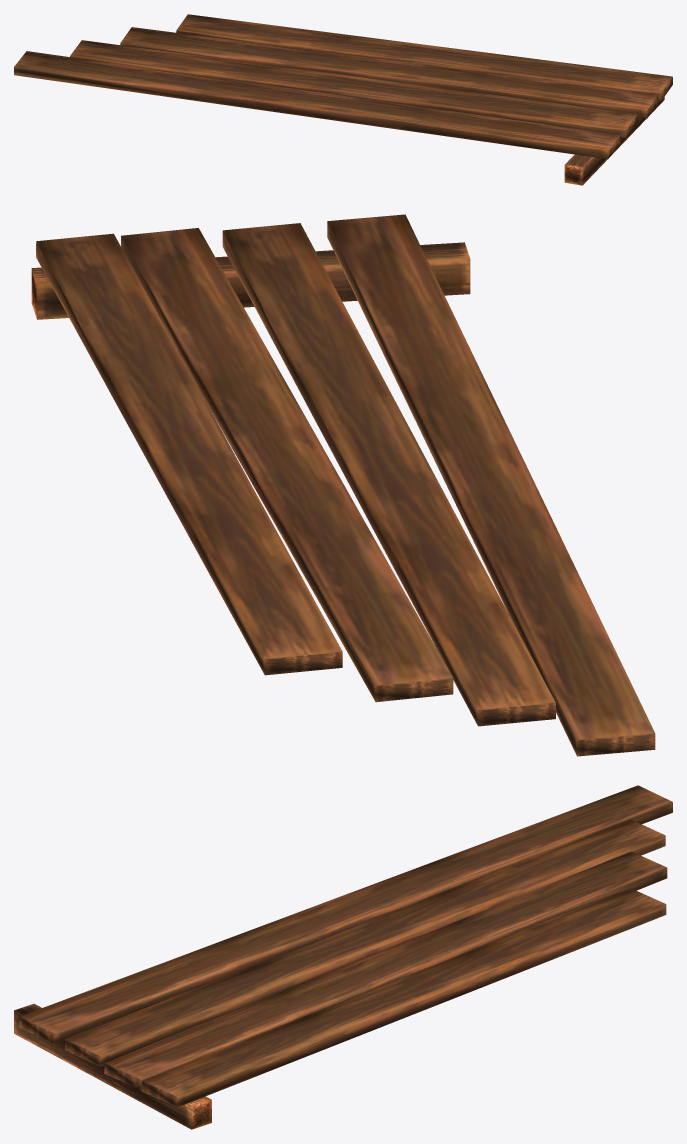
File: SWORDLIGHT20_JAILPLATFORM05.fbx
3 views of the same model, one above another, from view 1: azimuth 30°, elevation 25°; view 2: azimuth 150°, elevation 25°; view 3: azimuth 270°, elevation 25° (orthographic). The views are drawn at different scales.
Visible parts, largest first — view 1: SWORDLIGHT20_JAILPLATFORM05; view 2: SWORDLIGHT20_JAILPLATFORM05; view 3: SWORDLIGHT20_JAILPLATFORM05.
Boxes of the visible parts, x1,y1,x2,y2 form: SWORDLIGHT20_JAILPLATFORM05: [14, 14, 672, 185]; SWORDLIGHT20_JAILPLATFORM05: [31, 214, 655, 756]; SWORDLIGHT20_JAILPLATFORM05: [14, 785, 672, 1129].
Size of the model in its own units: 114620 by 6079 by 102450.
Materials: 2 (2 with a texture image).
